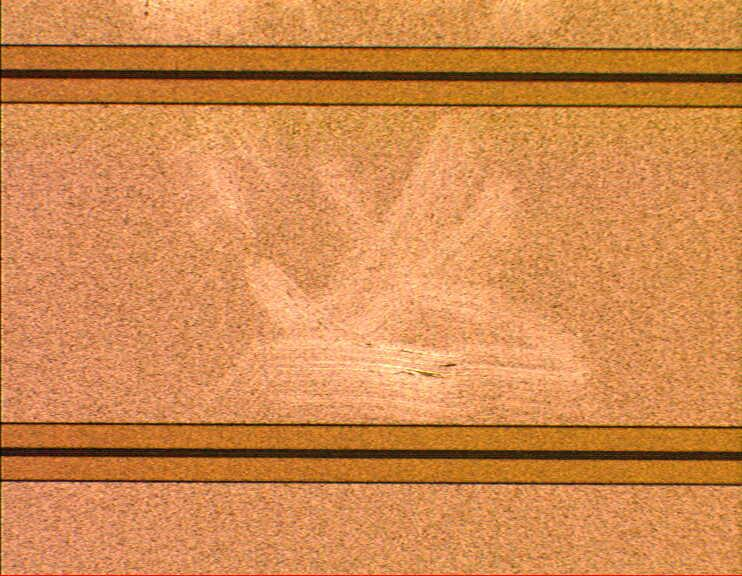SCRATCH: (116, 1, 610, 465)
